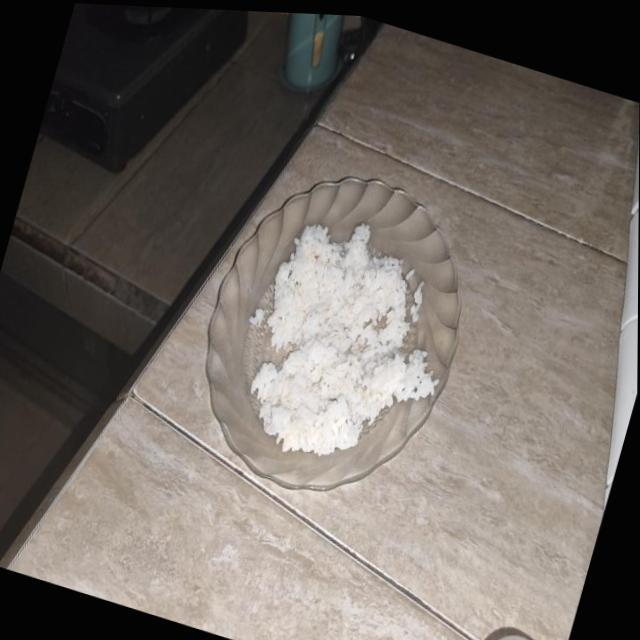nasi_putih: (249, 223, 438, 456)
